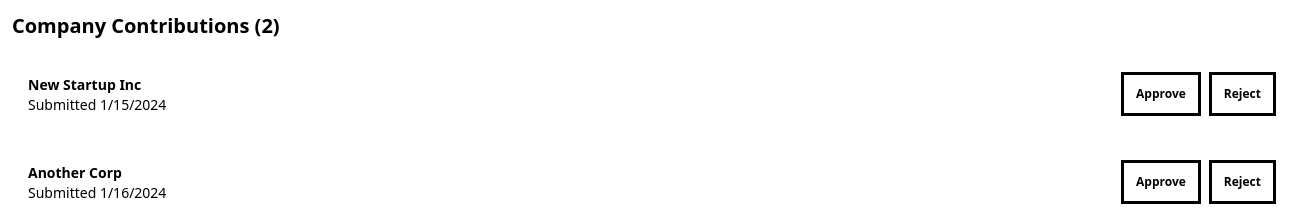
Scenario: AdminModerationQueue › T115: approve contribution action › shows loading spinner while processing
The image size is (1292, 221).
Step 1. Click the button "Approve" in the row of "1/15/2024" → (1161, 94), box left=1121, top=72, right=1201, bottom=116
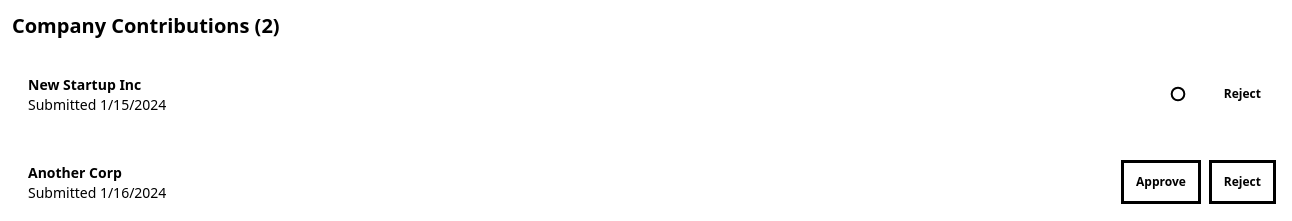
Check: the element with class "loading" is shown, box left=1170, top=86, right=1186, bottom=102
